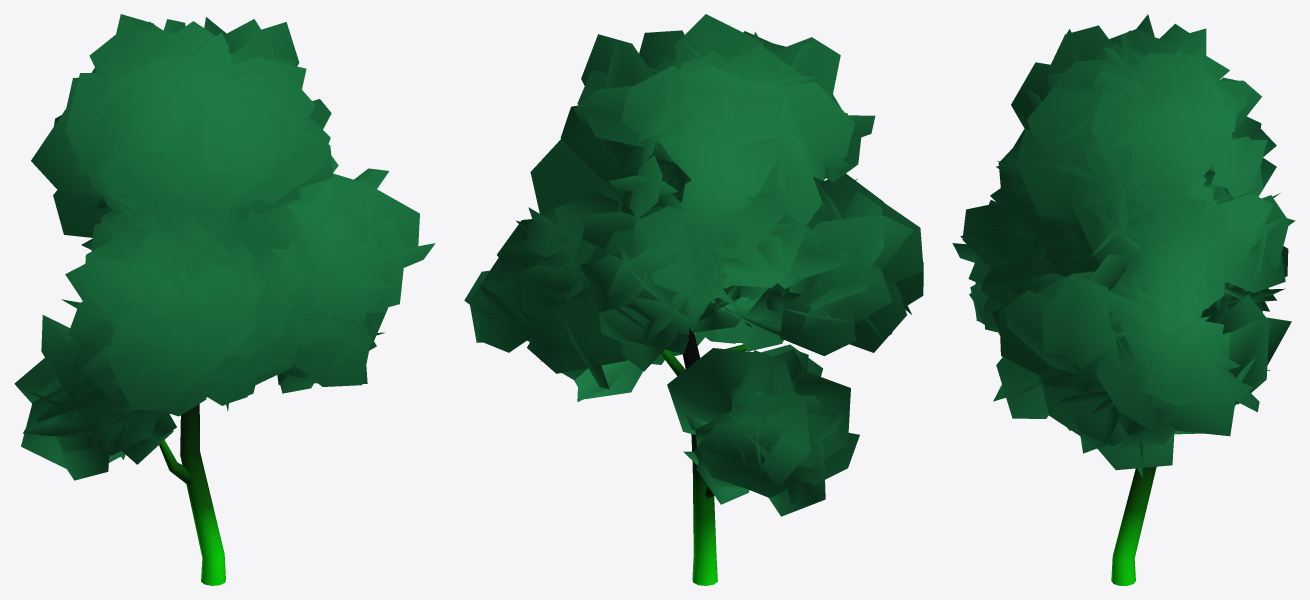
Rendered from SM_OakTree2.fbx.
3 views of the same model, side by side, from view 1: azimuth 30°, elevation 25°; view 2: azimuth 150°, elevation 25°; view 3: azimuth 270°, elevation 25° (orthographic). The views are drawn at different scales.
Visible parts, largest first — view 1: SM_OakTree2_LOD0; view 2: SM_OakTree2_LOD0; view 3: SM_OakTree2_LOD0.
Boxes of the visible parts, x1=… form: SM_OakTree2_LOD0: x1=14, y1=14, x2=435, y2=585; SM_OakTree2_LOD0: x1=464, y1=14, x2=923, y2=585; SM_OakTree2_LOD0: x1=952, y1=14, x2=1295, y2=585.
Size of the model in its own units: 998 by 1461 by 853.
